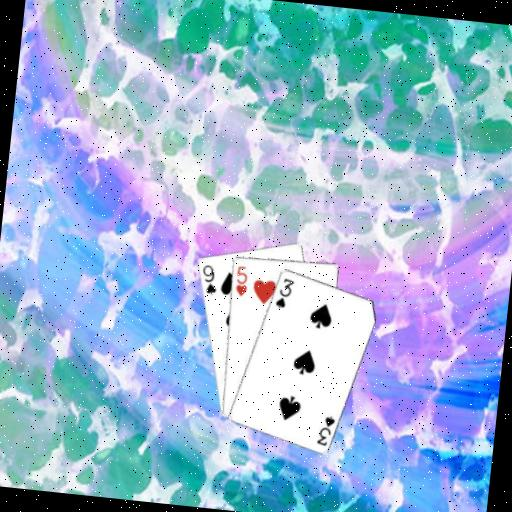3S: (272, 274, 296, 311), (313, 411, 337, 448)
5H: (231, 262, 250, 298)
9S: (197, 261, 220, 296)
